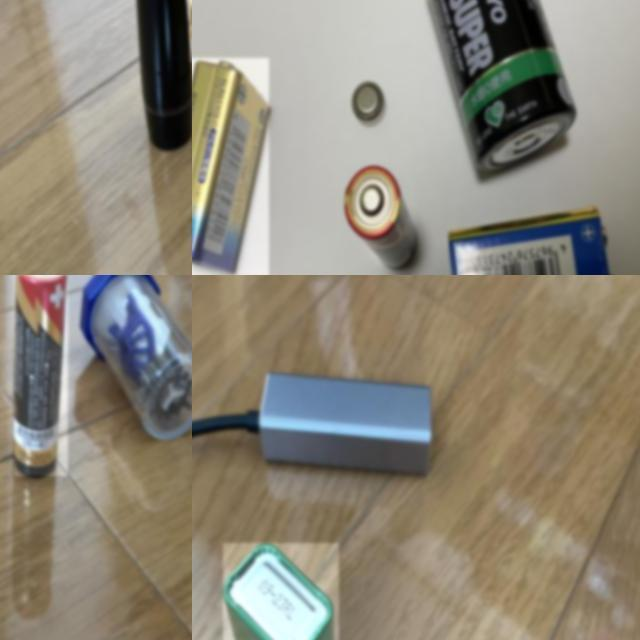9V: (192, 58, 269, 275), (223, 542, 338, 640), (448, 209, 618, 275)
